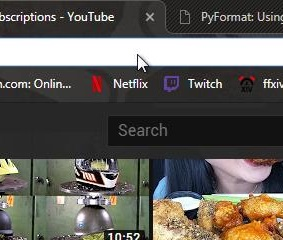cursor: (135, 51, 150, 76)
